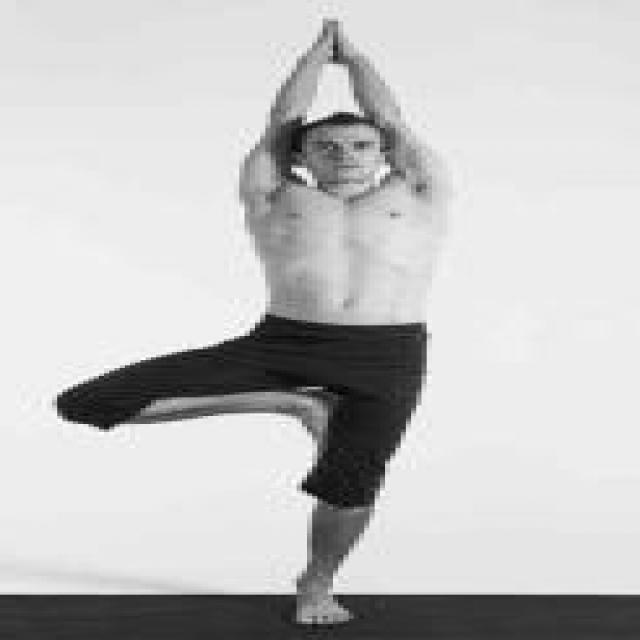yoga-pose tree: (46, 20, 457, 626)
